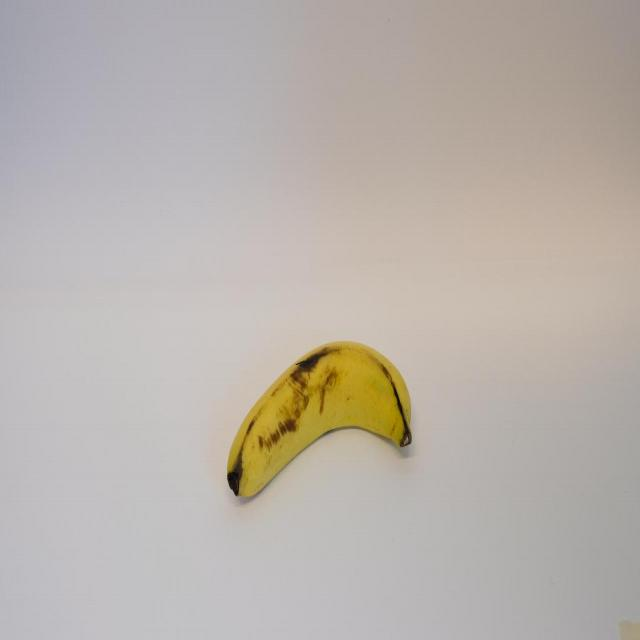banana: (227, 336, 412, 502)
